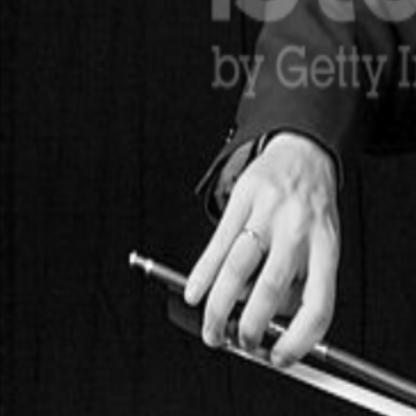bad: (174, 141, 352, 389)
